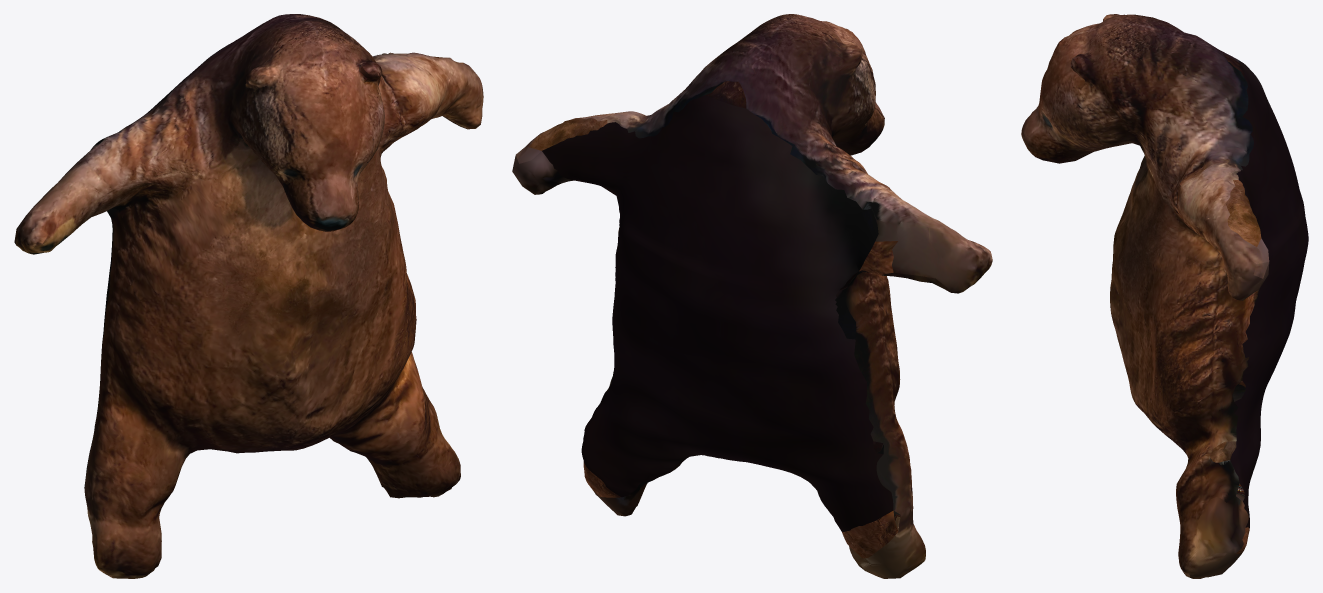
File: Bear.fbx
The picture shows the model from 3 angles, left to right: view 1: azimuth 30°, elevation 25°; view 2: azimuth 150°, elevation 25°; view 3: azimuth 270°, elevation 25°; orthographic projection. The views are drawn at different scales.
Visible parts, largest first — view 1: textured.001; view 2: textured.001; view 3: textured.001.
Part boxes in pixels (<box>): textured.001: <box>14,14,483,578</box>; textured.001: <box>512,14,992,578</box>; textured.001: <box>1021,14,1308,578</box>.
Bounding box in the file's own units: 484 × 517 × 272.
Materials: 1 (1 with a texture image).
